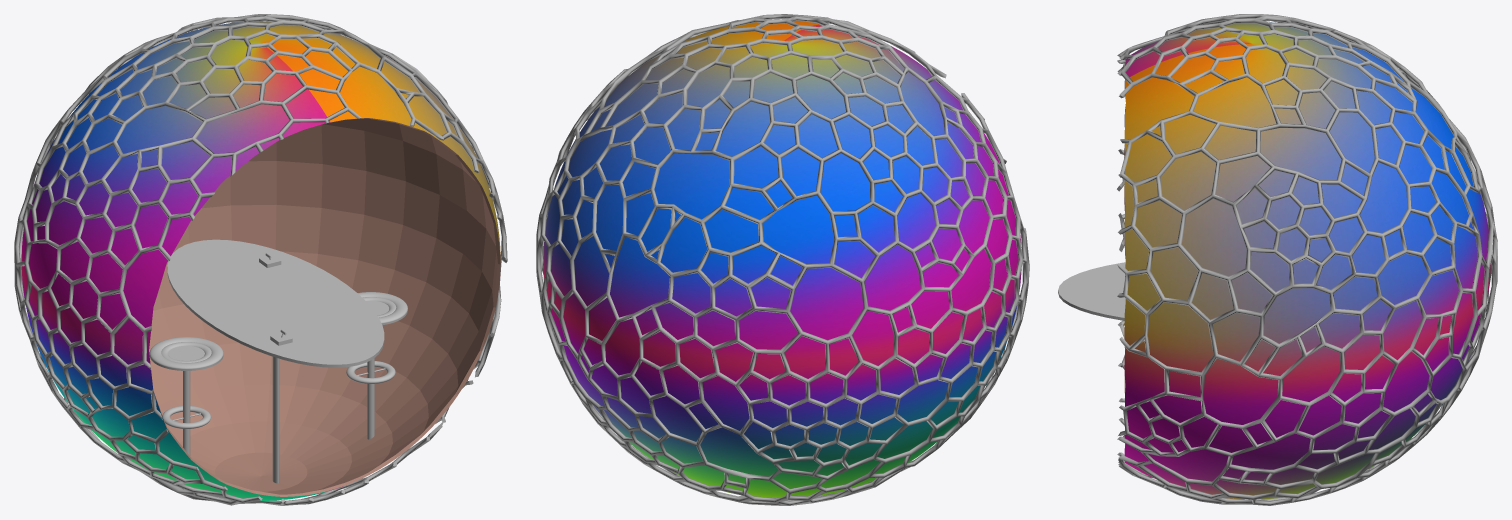
Rendered from studioset.glb.
3 views of the same model, side by side, from view 1: azimuth 30°, elevation 25°; view 2: azimuth 150°, elevation 25°; view 3: azimuth 270°, elevation 25° (orthographic).
Parts seen in each view (by area): view 1: Sphere, ICO球, 円柱 2, 円柱 (×3), トーラス 2 (×2), トーラス (×2), 円柱 3; view 2: Sphere, ICO球; view 3: Sphere, ICO球, 円柱 2.
Boxes of the visible parts, x1,y1,x2,y2 form: Sphere: (21, 21, 500, 500); ICO球: (14, 14, 507, 505); 円柱 2: (167, 239, 384, 367); 円柱 (×3): (183, 356, 374, 489); トーラス 2 (×2): (149, 292, 407, 369); トーラス (×2): (162, 361, 395, 428); 円柱 3: (149, 345, 223, 370); Sphere: (543, 20, 1021, 497); ICO球: (536, 14, 1029, 505); Sphere: (1124, 22, 1490, 499); ICO球: (1117, 14, 1497, 505); 円柱 2: (1058, 262, 1125, 320).
Size of the model in its own units: 3 by 3 by 2.69.
3 materials, 1 textured.
